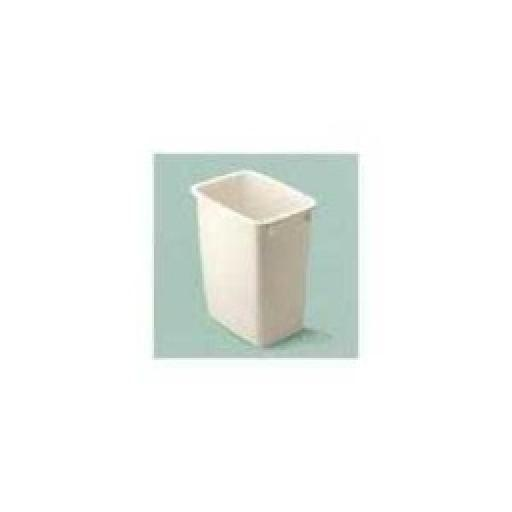trash-can: (189, 158, 319, 350)
